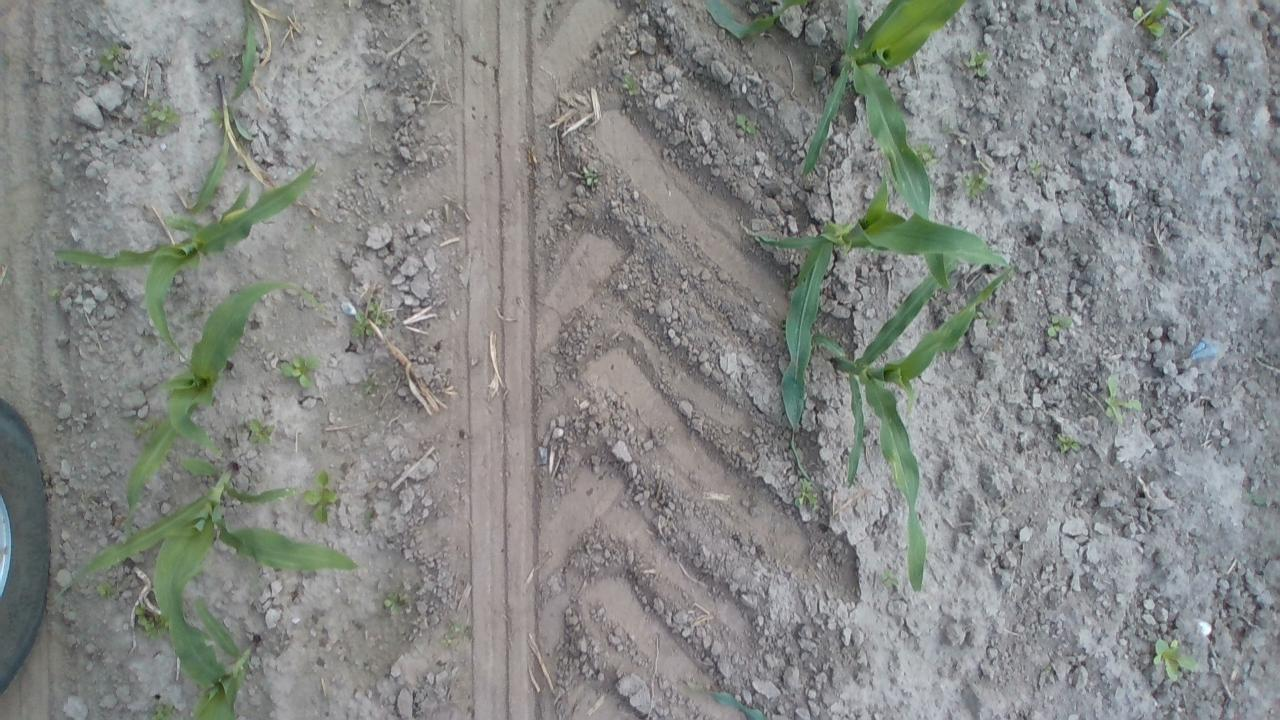Maize: (750, 168, 1015, 483), (812, 251, 1013, 594), (52, 458, 361, 640), (50, 158, 318, 366), (125, 282, 320, 532), (802, 0, 966, 290), (167, 562, 262, 720), (188, 76, 278, 212), (704, 0, 808, 40), (229, 1, 263, 104), (687, 682, 769, 720)
Weeds: (1152, 638, 1200, 682), (302, 467, 338, 525), (1103, 376, 1145, 424), (352, 304, 392, 341), (280, 354, 320, 390), (1132, 1, 1170, 38), (140, 98, 179, 132), (134, 603, 166, 641), (247, 418, 275, 448), (97, 44, 128, 71), (794, 478, 820, 508), (962, 169, 990, 196), (964, 50, 990, 78), (1046, 315, 1076, 338), (1056, 433, 1082, 453), (917, 142, 936, 166), (384, 590, 400, 618), (1242, 490, 1268, 507), (736, 113, 756, 134), (621, 72, 638, 95), (582, 165, 599, 187), (882, 568, 899, 588), (153, 704, 174, 720), (95, 582, 116, 596), (1028, 156, 1042, 176), (361, 379, 376, 397), (208, 108, 222, 127), (447, 618, 461, 635), (144, 415, 158, 429), (132, 425, 144, 441), (208, 48, 224, 60), (1159, 48, 1172, 62), (352, 114, 364, 126), (442, 634, 453, 646), (986, 318, 999, 328), (463, 624, 471, 636)
